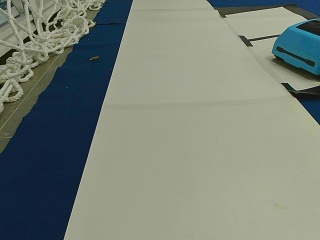car: (271, 17, 318, 76)
